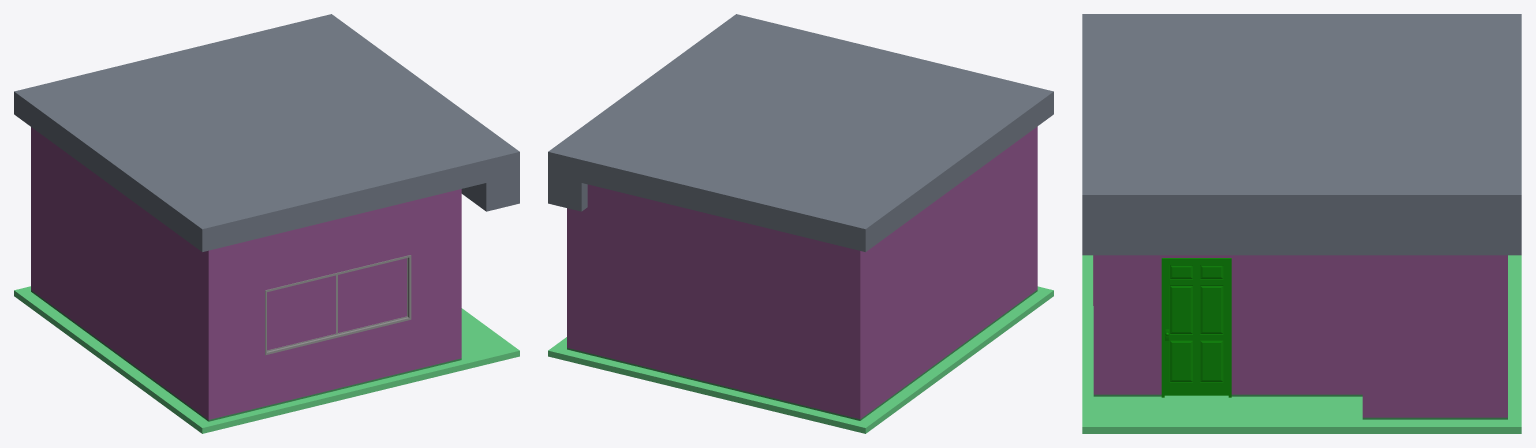
Rendered from FloorPlan8_physics.fbx.
The picture shows the model from 3 angles, left to right: view 1: azimuth 30°, elevation 25°; view 2: azimuth 150°, elevation 25°; view 3: azimuth 270°, elevation 25°; orthographic projection. The views are drawn at different scales.
Parts seen in each view (by area): view 1: Ceiling, StandardWallSize, FloorMat, Window, WindowFrame; view 2: StandardWallSize, Ceiling, FloorMat; view 3: Ceiling, StandardWallSize, FloorMat, StandardDoor1, StandardDoorFrame1.
Part boxes in pixels (x1=…): Ceiling: x1=14, y1=14, x2=519, y2=251; StandardWallSize: x1=31, y1=127, x2=461, y2=421; FloorMat: x1=14, y1=286, x2=519, y2=433; Window: x1=267, y1=258, x2=406, y2=350; WindowFrame: x1=265, y1=255, x2=411, y2=355; StandardWallSize: x1=567, y1=126, x2=1037, y2=420; Ceiling: x1=548, y1=14, x2=1053, y2=251; FloorMat: x1=548, y1=286, x2=1053, y2=433; Ceiling: x1=1082, y1=14, x2=1521, y2=255; StandardWallSize: x1=1093, y1=255, x2=1507, y2=419; FloorMat: x1=1082, y1=255, x2=1521, y2=433; StandardDoor1: x1=1164, y1=261, x2=1228, y2=395; StandardDoorFrame1: x1=1161, y1=258, x2=1231, y2=397.
Size of the model in its own units: 565 by 348 by 580.
